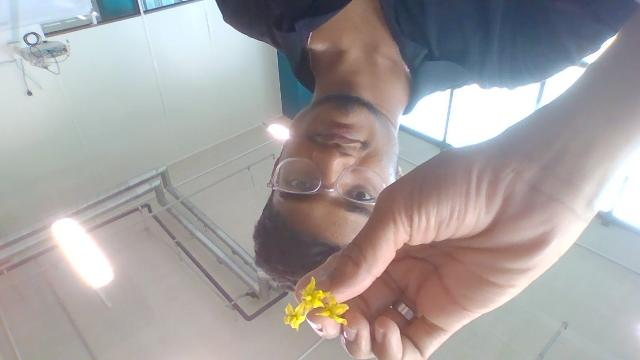Anthesis: (315, 295, 350, 326), (299, 277, 327, 311), (283, 301, 308, 331)
